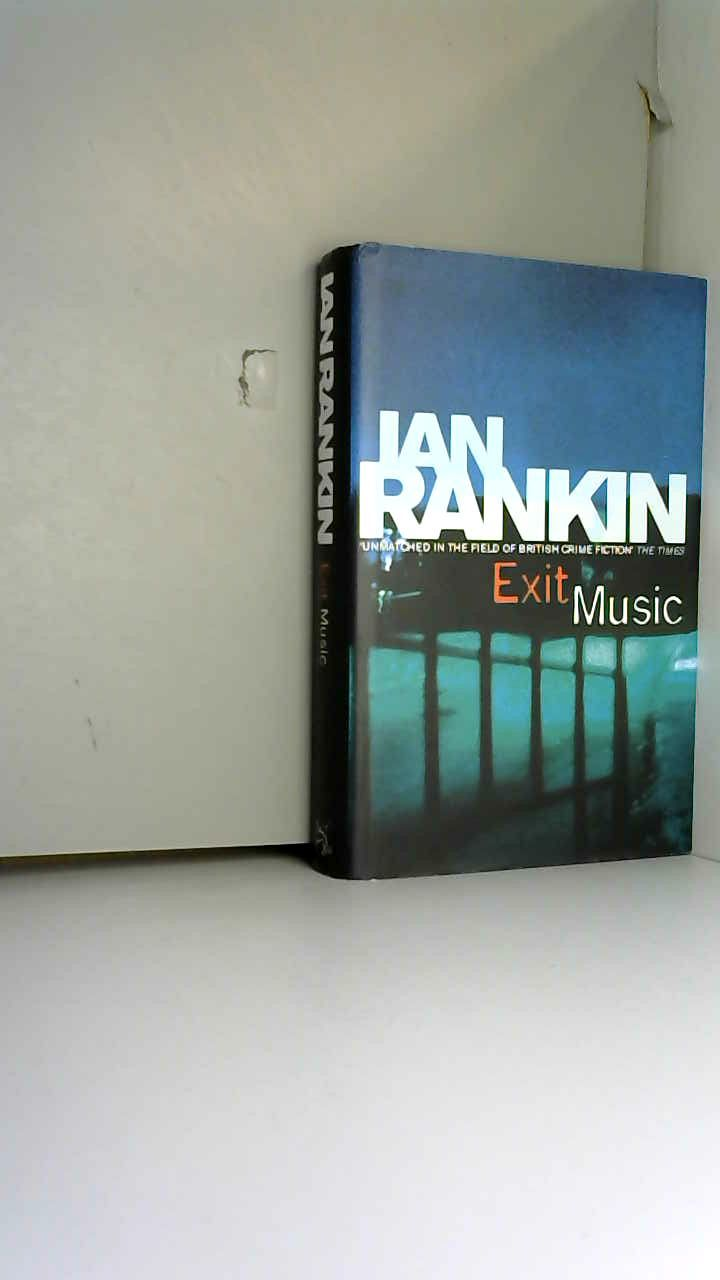book: (280, 210, 718, 898)
